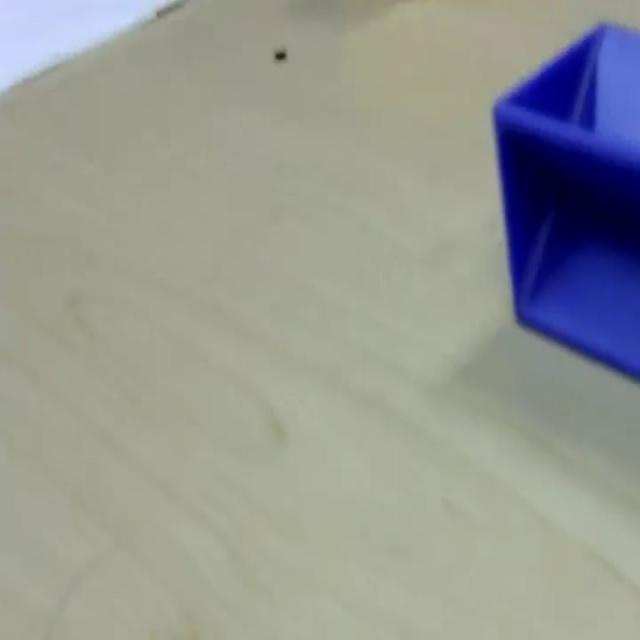blue_block: (491, 19, 638, 380)
